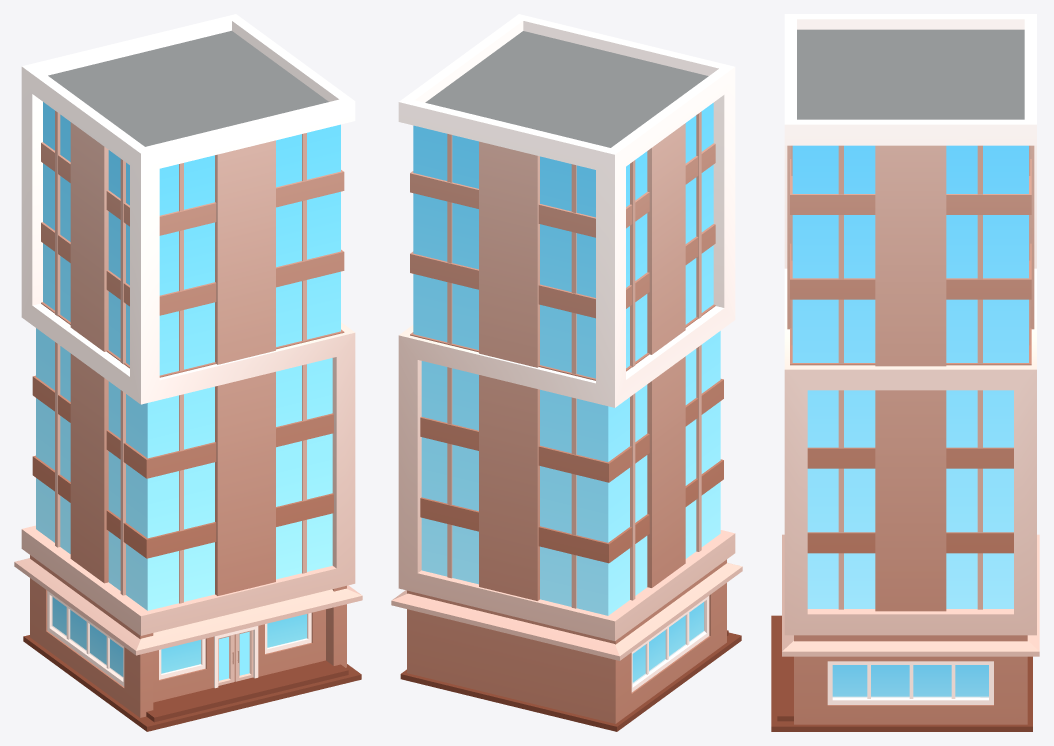
File: Building_Living_48.glb
3 renders of one model, left to right at view 1: azimuth 30°, elevation 25°; view 2: azimuth 150°, elevation 25°; view 3: azimuth 270°, elevation 25°, orthographic. The views are drawn at different scales.
Parts seen in each view (by area): view 1: Building_Living_48; view 2: Building_Living_48; view 3: Building_Living_48.
Part boxes in pixels (bbox=[...]): Building_Living_48: bbox=[14, 14, 362, 731]; Building_Living_48: bbox=[391, 14, 742, 731]; Building_Living_48: bbox=[771, 14, 1039, 731].
Bounding box in the file's own units: 10.41 × 25.19 × 10.09.
Materials: 2 (2 with a texture image).
